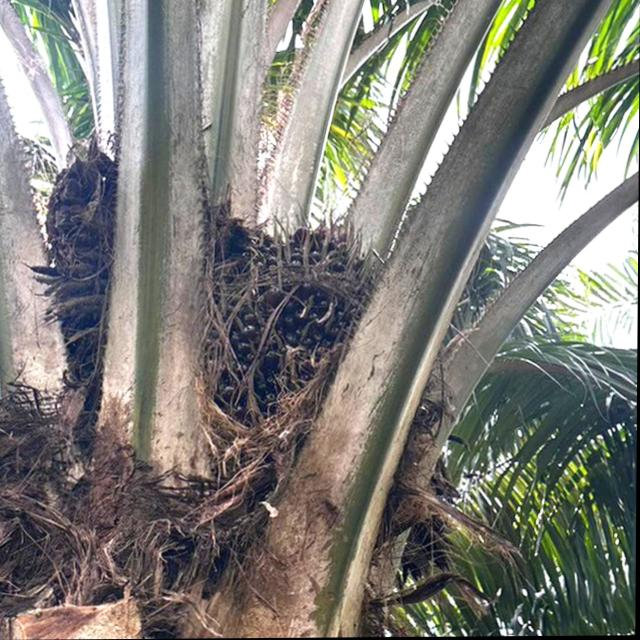ripe: (193, 193, 399, 438)
